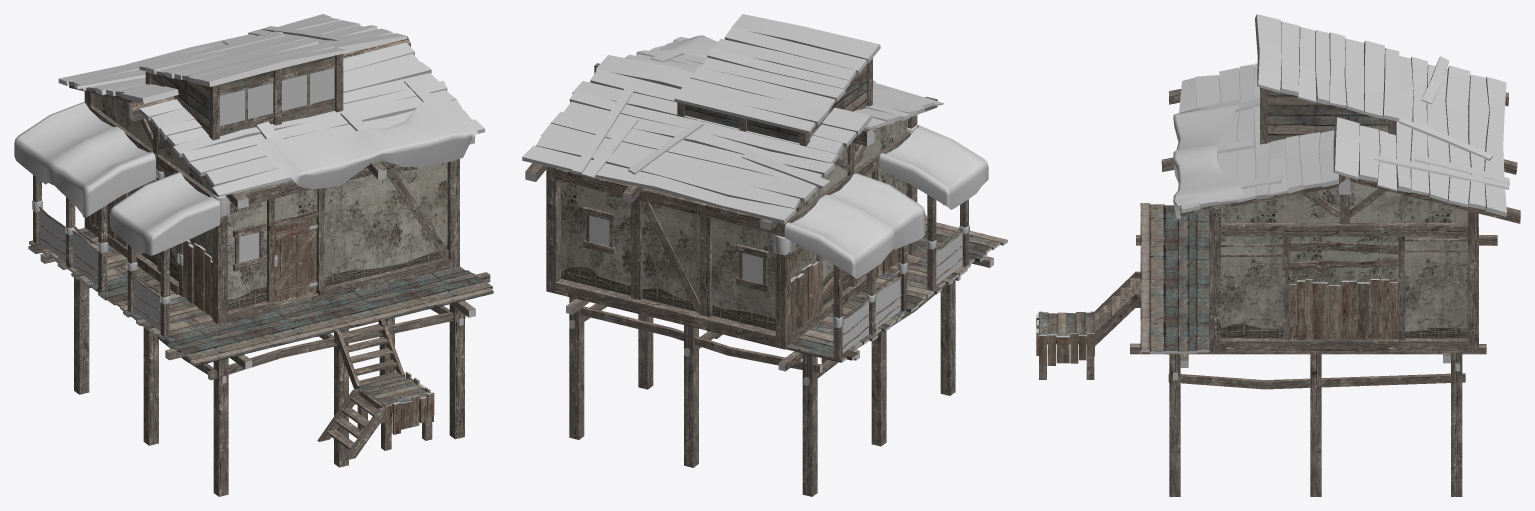
File: House5.fbx
3 views of the same model, side by side, from view 1: azimuth 30°, elevation 25°; view 2: azimuth 150°, elevation 25°; view 3: azimuth 270°, elevation 25° (orthographic). The views are drawn at different scales.
Parts seen in each view (by area): view 1: Base, Stairs, Doors; view 2: Base; view 3: Base, Stairs.
Boxes of the visible parts, x1,y1,x2,y2 form: Base: (14, 14, 493, 496); Stairs: (317, 318, 434, 460); Doors: (274, 217, 317, 301); Base: (522, 14, 1007, 496); Base: (1130, 14, 1520, 496); Stairs: (1036, 271, 1141, 379).
Size of the model in its own units: 10.19 by 11.16 by 12.92.
